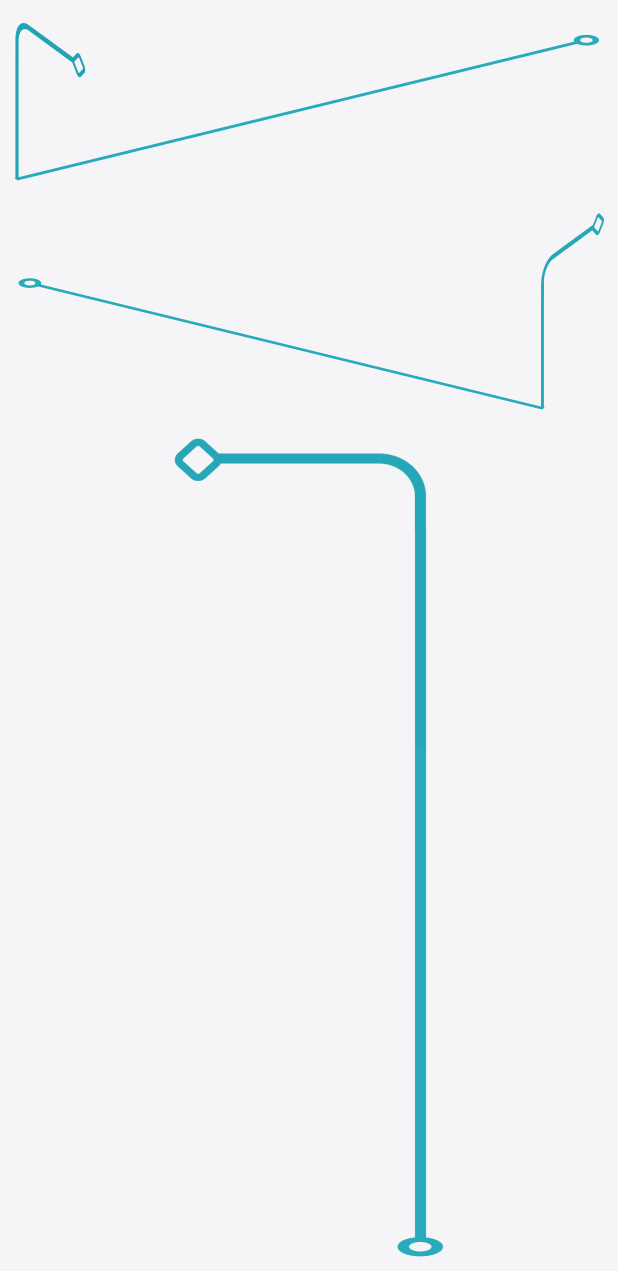
File: 7_1_cl_inactive.glb
3 views of the same model, one above another, from view 1: azimuth 30°, elevation 25°; view 2: azimuth 150°, elevation 25°; view 3: azimuth 270°, elevation 25° (orthographic). The views are drawn at different scales.
Visible parts, largest first — view 1: 7_1_cl_inactive; view 2: 7_1_cl_inactive; view 3: 7_1_cl_inactive.
Boxes of the visible parts, x1,y1,x2,y2 form: 7_1_cl_inactive: (14,23,598,180); 7_1_cl_inactive: (18,213,603,409); 7_1_cl_inactive: (174,438,442,1256).
Bounding box in the file's own units: 8.54 × 2.4 × 1.9.
1 material, 1 textured.
